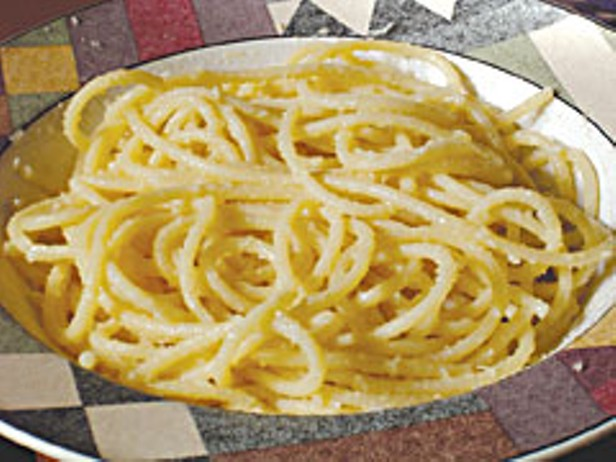plain spaghetti: (116, 126, 493, 343)
